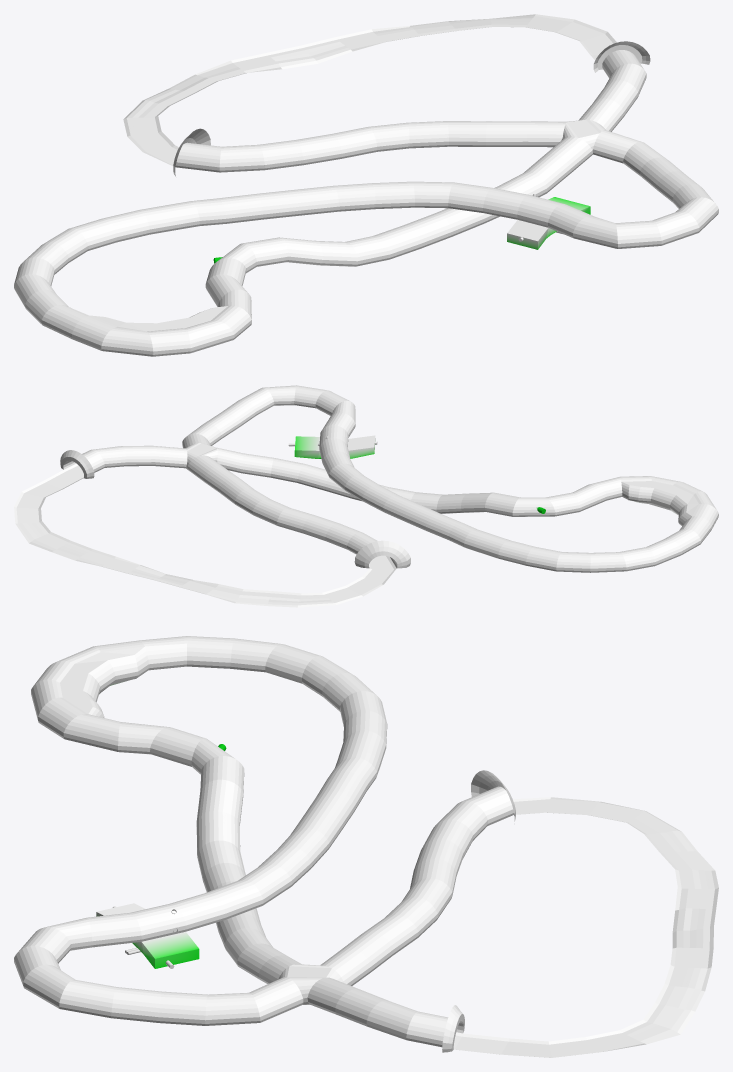
File: shithole.fbx
3 views of the same model, one above another, from view 1: azimuth 30°, elevation 25°; view 2: azimuth 150°, elevation 25°; view 3: azimuth 270°, elevation 25° (orthographic). The views are drawn at different scales.
Visible parts, largest first — view 1: Cylinder.002; view 2: Cylinder.002; view 3: Cylinder.002.
Boxes of the visible parts, x1,y1,x2,y2 form: Cylinder.002: [14, 14, 718, 356]; Cylinder.002: [14, 385, 718, 607]; Cylinder.002: [14, 636, 718, 1057].
Size of the model in its own units: 1392 by 125 by 998.
